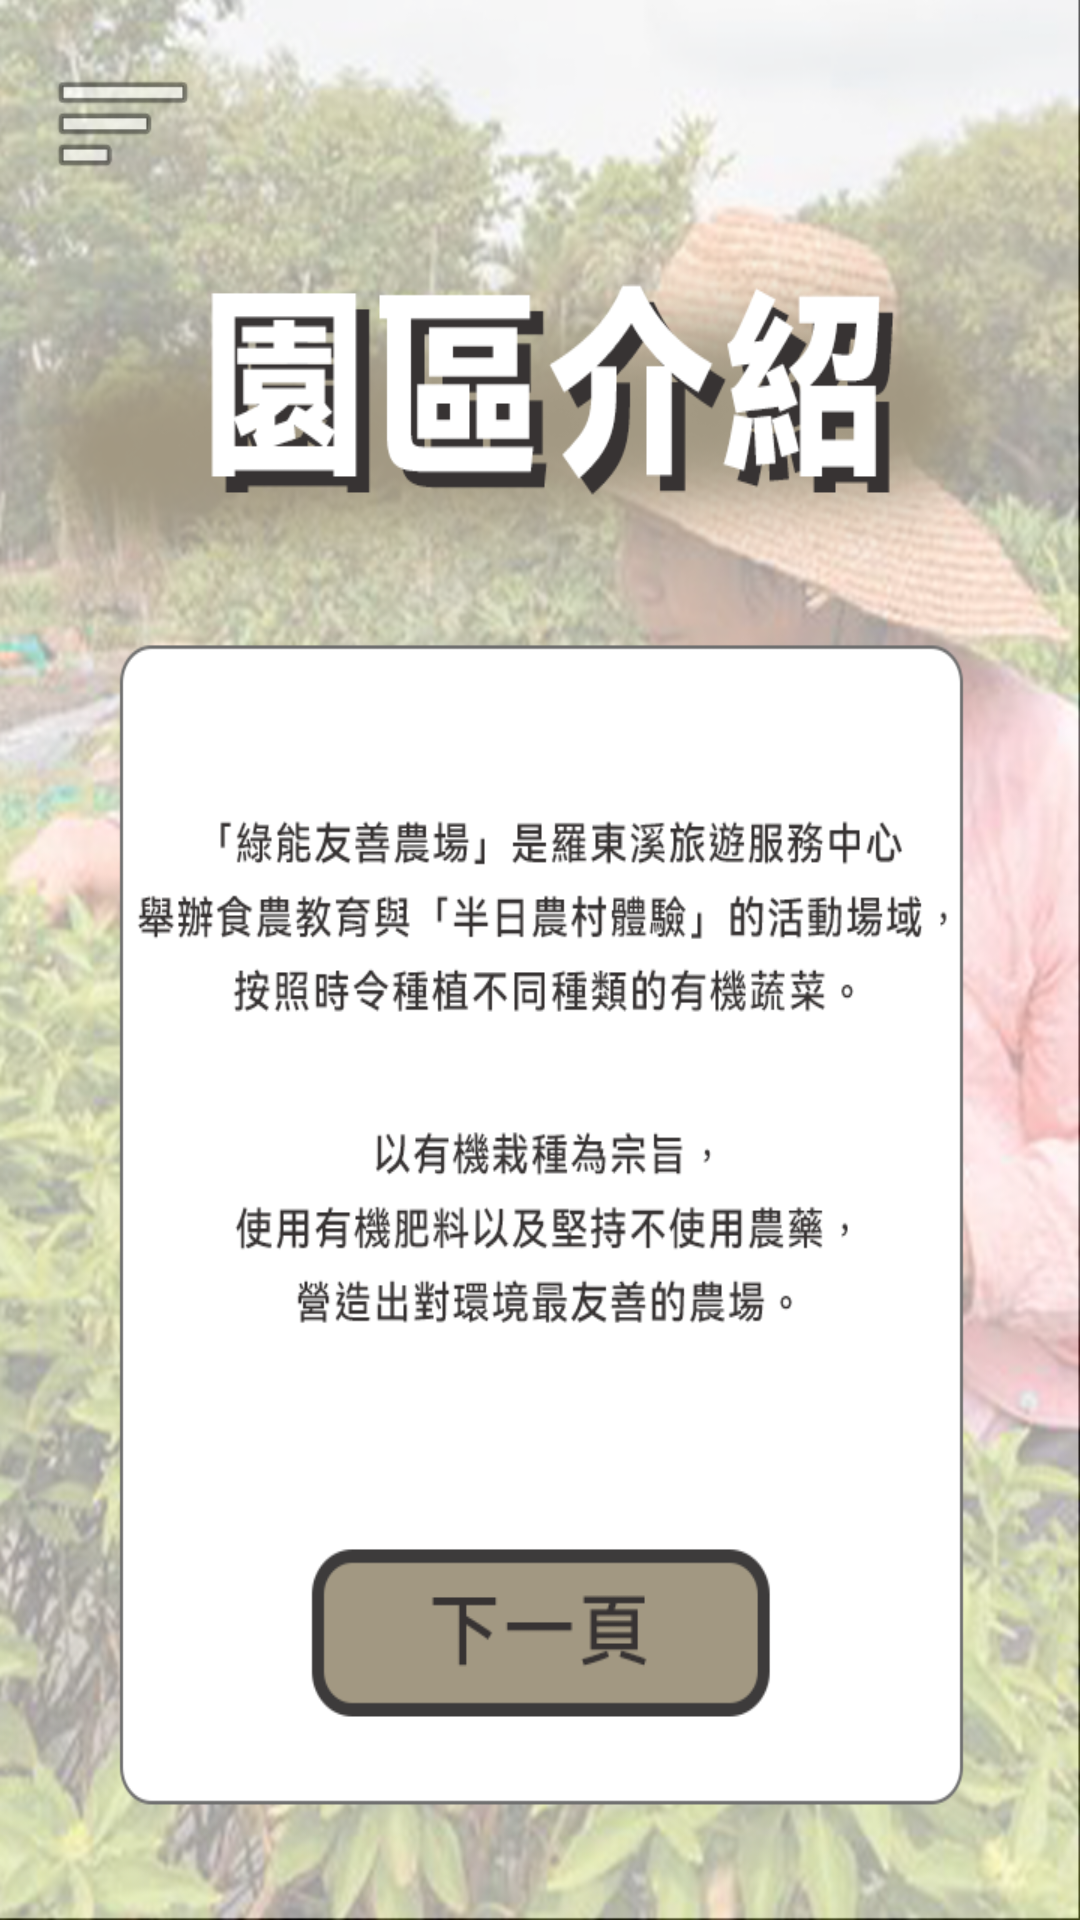

Icons on this 1080x1920 Android screen, each with the point to tap as (x,y):
sort by size: (123,123)
